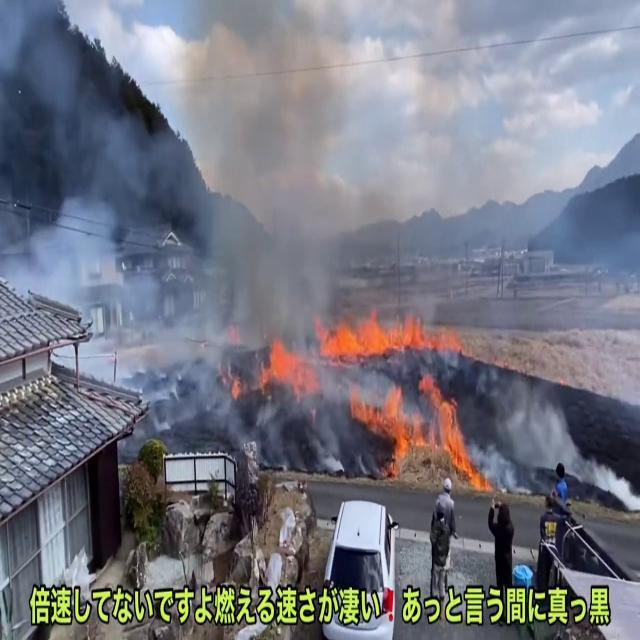Fire: (348, 368, 480, 482), (314, 302, 460, 366), (258, 332, 314, 402)
Smoke: (1, 0, 379, 399), (480, 368, 578, 492)
